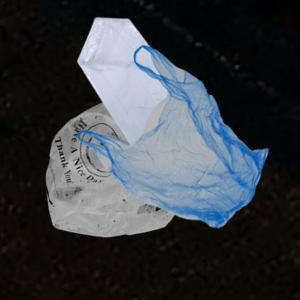plastic_bag: (78, 42, 271, 229)
